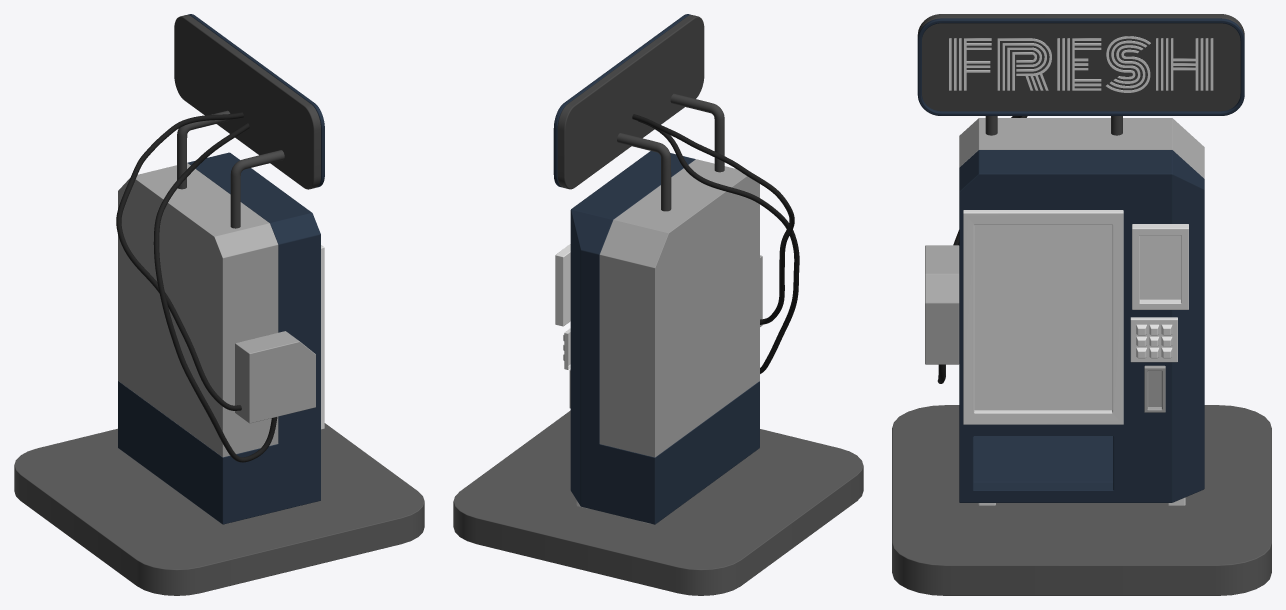
Rendered from uploads_files_6012796_sifi+.fbx.
The picture shows the model from 3 angles, left to right: view 1: azimuth 30°, elevation 25°; view 2: azimuth 150°, elevation 25°; view 3: azimuth 270°, elevation 25°; orthographic projection. The views are drawn at different scales.
Parts seen in each view (by area): view 1: Plane, Plane.001_slice, Plane.001, Plane.011, Plane.014, Plane.015, Plane.017, Plane.010, Plane.012, Plane.003; view 2: Plane.001_slice, Plane, Plane.001, Plane.011, Plane.010, Plane.015, Plane.017, Plane.005, Plane.012; view 3: Plane, Plane.001, Plane.002, Plane.011, Plane.003, Plane.001_slice, Text, Plane.012, Plane.014, Plane.006, Plane.005, Plane.007 (+2 smaller).
Boxes of the visible parts, x1,y1,x2,y2 form: Plane: (14, 423, 424, 595); Plane.001_slice: (118, 163, 278, 457); Plane.001: (118, 152, 320, 524); Plane.011: (174, 15, 320, 189); Plane.014: (235, 331, 315, 423); Plane.015: (153, 123, 277, 462); Plane.017: (116, 112, 243, 410); Plane.010: (177, 110, 284, 228); Plane.012: (187, 14, 324, 187); Plane.003: (321, 245, 324, 429); Plane.001_slice: (599, 159, 759, 457); Plane: (453, 410, 863, 595); Plane.001: (570, 151, 759, 524); Plane.011: (557, 15, 704, 189); Plane.010: (617, 93, 724, 211); Plane.015: (638, 121, 799, 373); Plane.017: (632, 114, 794, 324); Plane.005: (555, 244, 570, 326); Plane.012: (553, 14, 690, 187); Plane: (892, 405, 1271, 595); Plane.001: (959, 150, 1204, 502); Plane.002: (974, 224, 1112, 410); Plane.011: (917, 14, 1244, 111); Plane.003: (963, 210, 1123, 424); Plane.001_slice: (959, 118, 1204, 178); Text: (949, 36, 1213, 92); Plane.012: (917, 18, 1244, 115); Plane.014: (925, 245, 959, 364); Plane.006: (1139, 235, 1181, 299); Plane.005: (1132, 224, 1188, 309); Plane.007: (1130, 317, 1177, 362).
Bounding box in the file's own units: 400 × 600 × 400.
